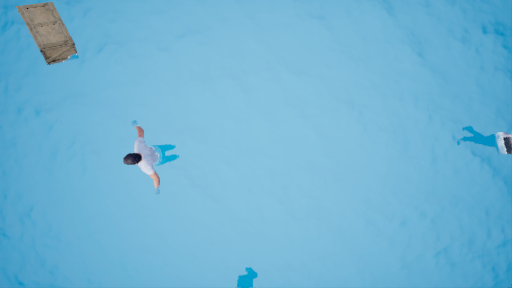person: (120, 121, 187, 188)
